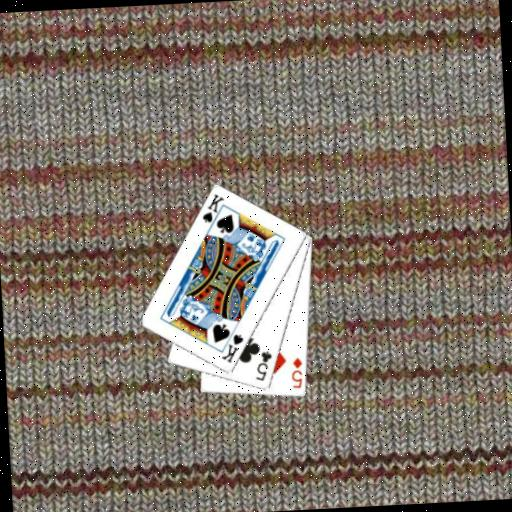5C: (252, 348, 275, 383)
5D: (288, 355, 305, 391)
KS: (198, 191, 227, 231), (218, 331, 247, 366)
